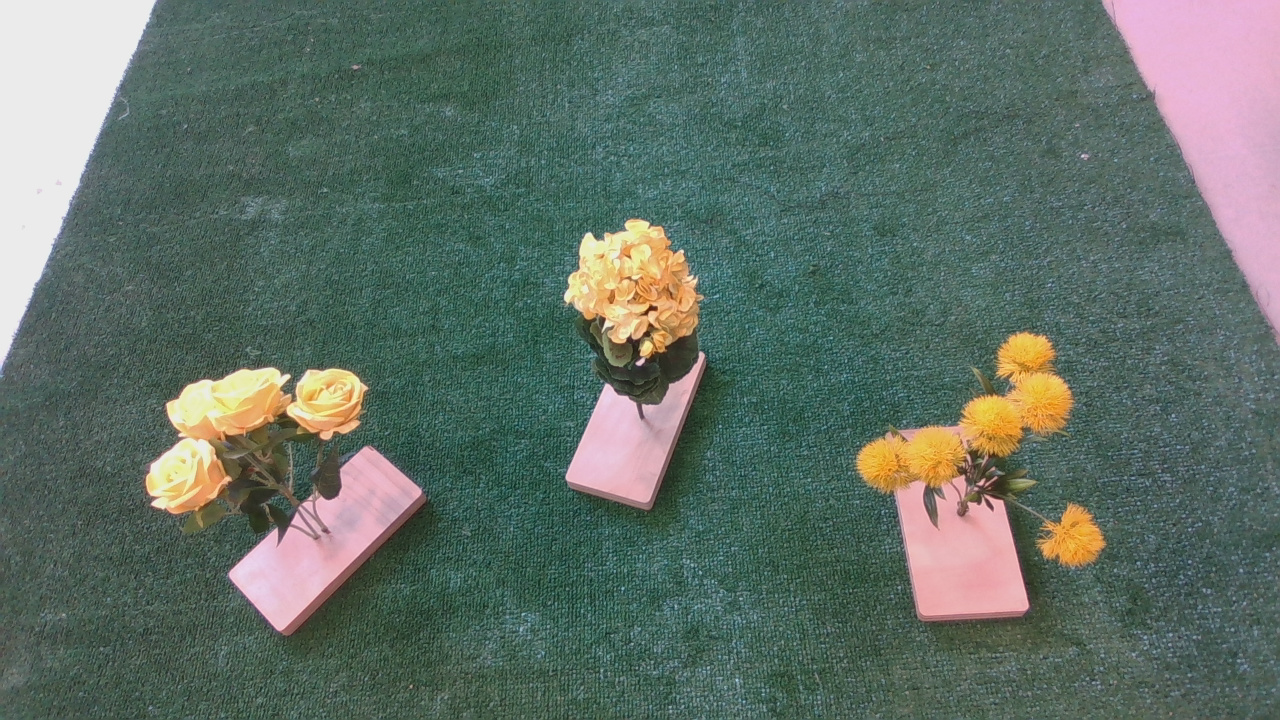dandelion: (857, 332, 1115, 580)
geranium: (561, 219, 715, 405)
rose: (119, 357, 379, 542)
